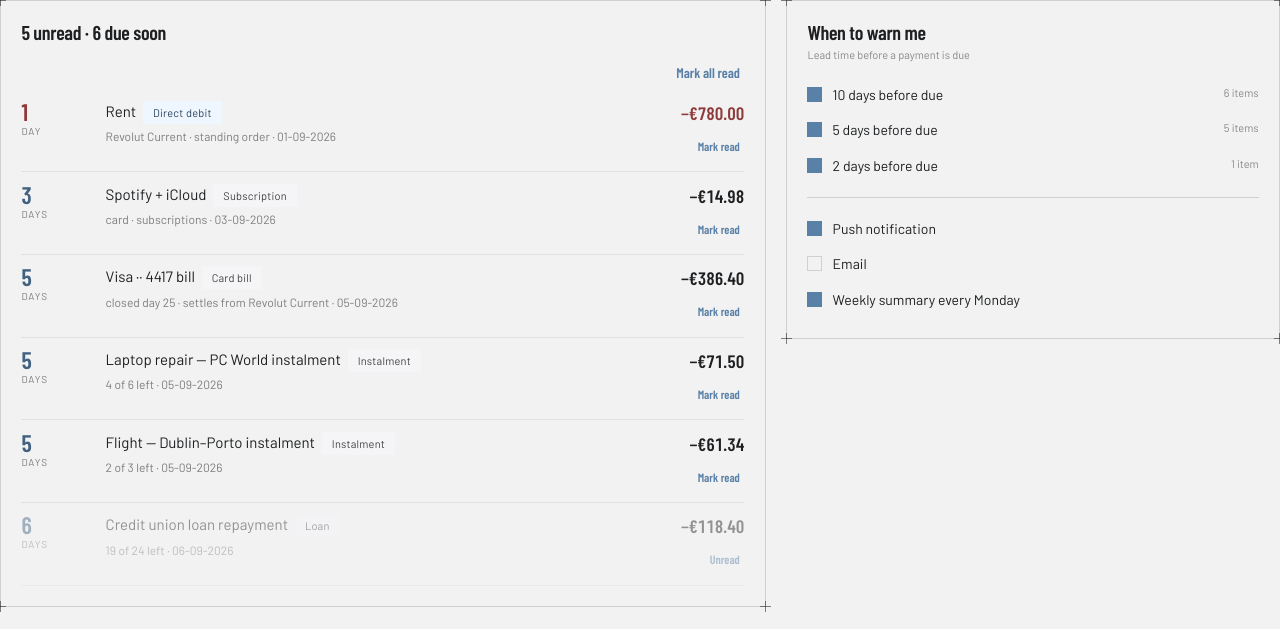
Scenario: NotificationsPage - read state › marks one item read and keeps it read after a refetch
Click the button with aria-label "Mark Rent as read": point(719, 146) top-left (693, 131), bottom-right (744, 161)
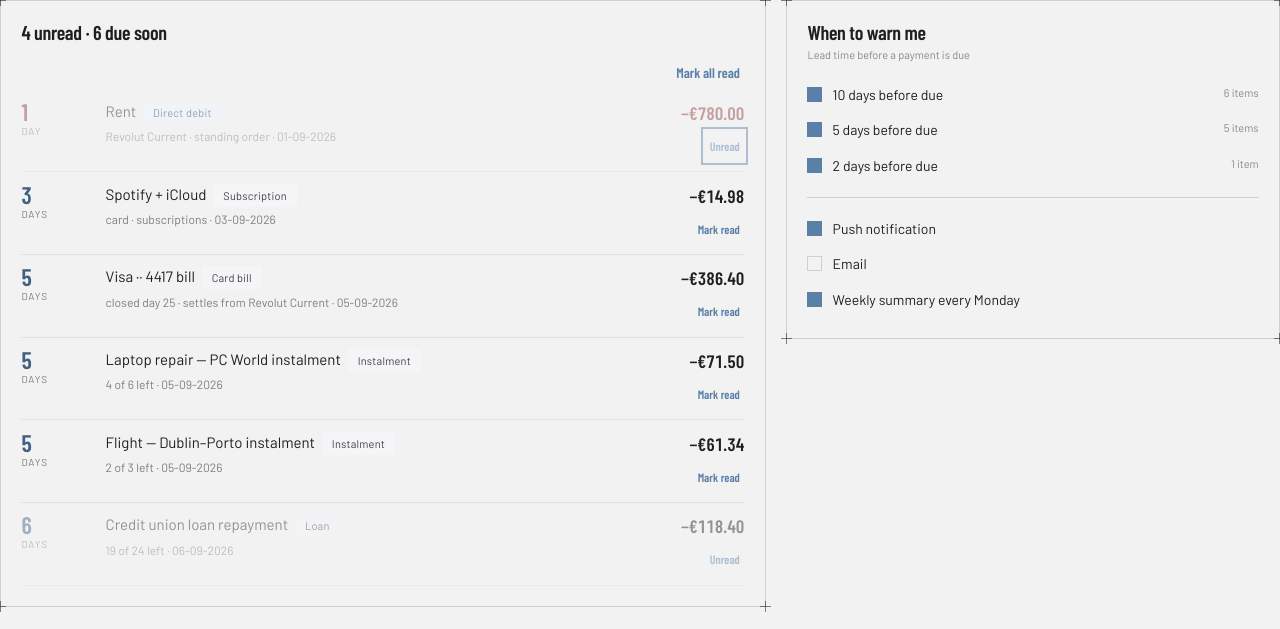
expect the button with aria-label "Mark Rent as unread" is shown: met, box top-left (705, 131), bottom-right (744, 161)
expect the heading "4 unread · 6 due soon" is shown: met, box top-left (21, 21), bottom-right (167, 44)
